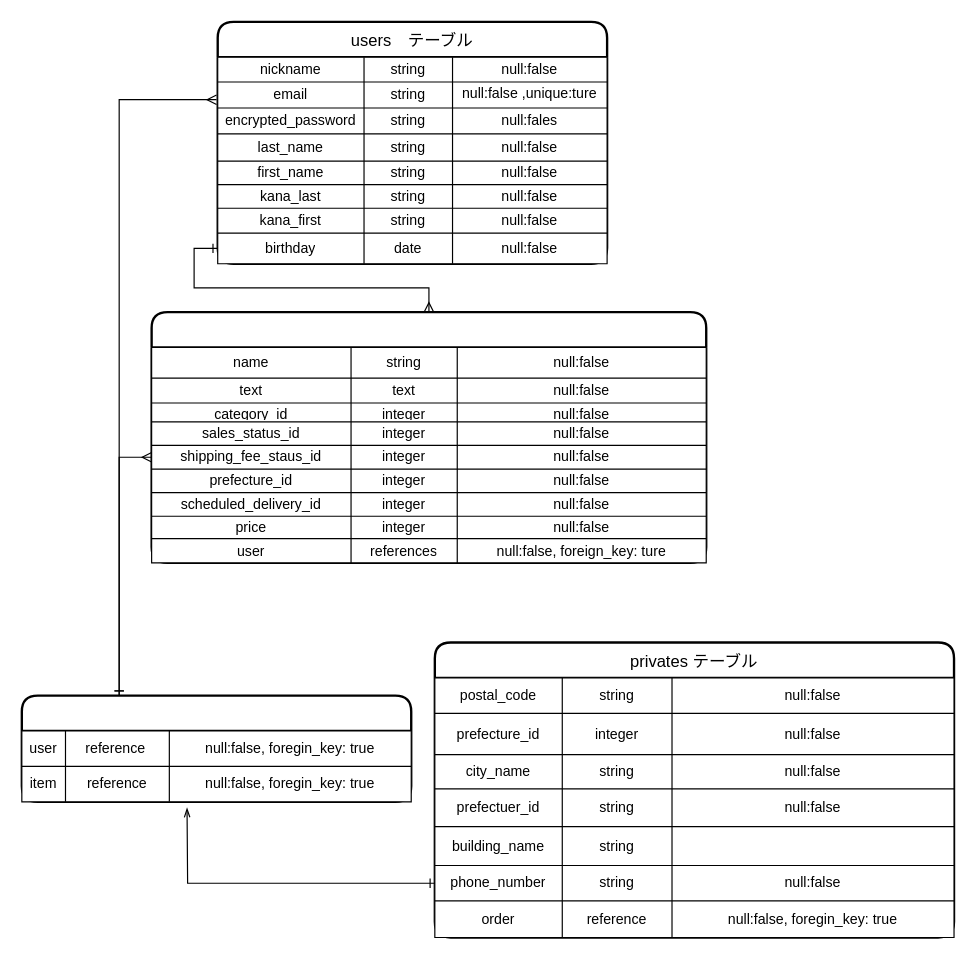
Image size: 975x958. Some labels were removed from this diagram. Here are the shapes that lost their labels. From the top down, the box of each, then its label:
(150, 310, 707, 563): items テーブル
(20, 694, 412, 802): orders テーブル
